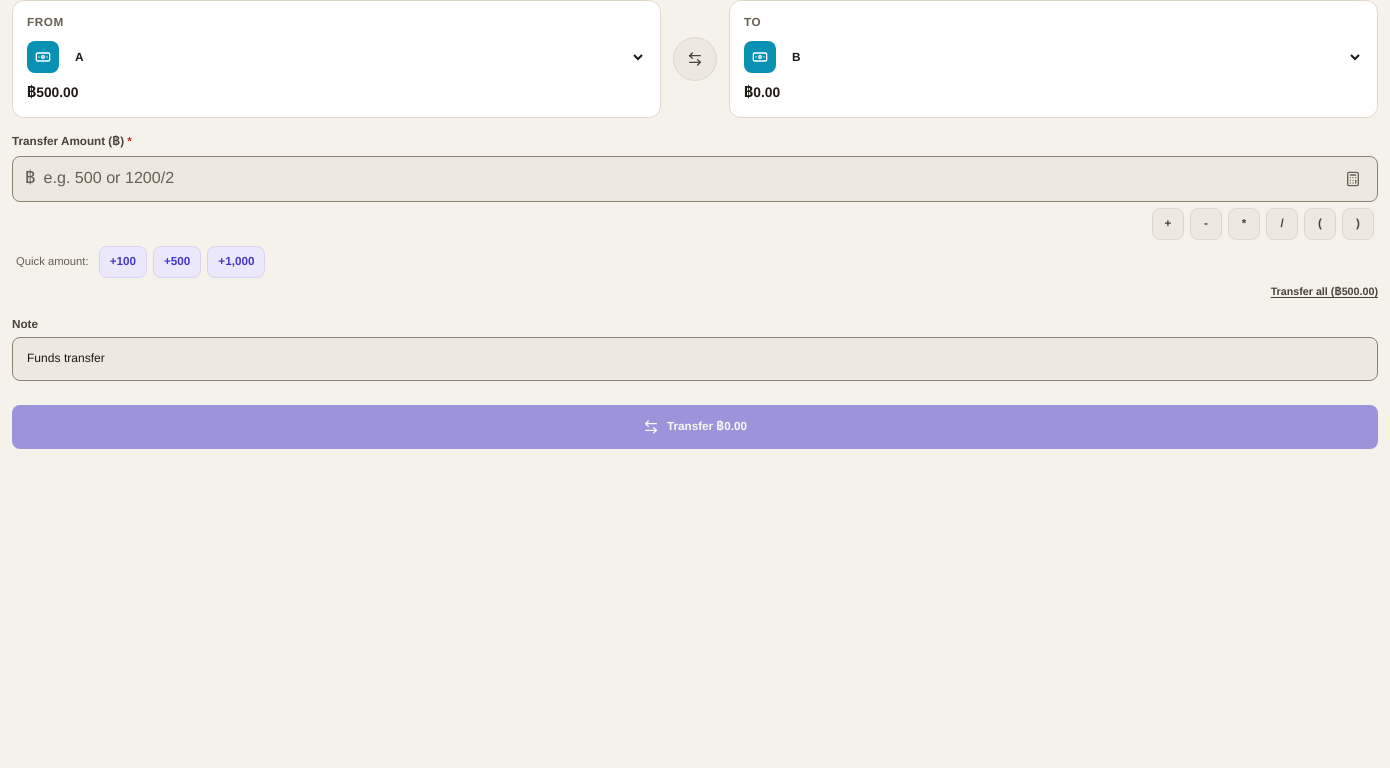
the transfer form › drops a refused transfer's message when the amount is edited
Type "100" into the field with id "xfer-amt" at (688, 179), box [44, 157, 1333, 201]
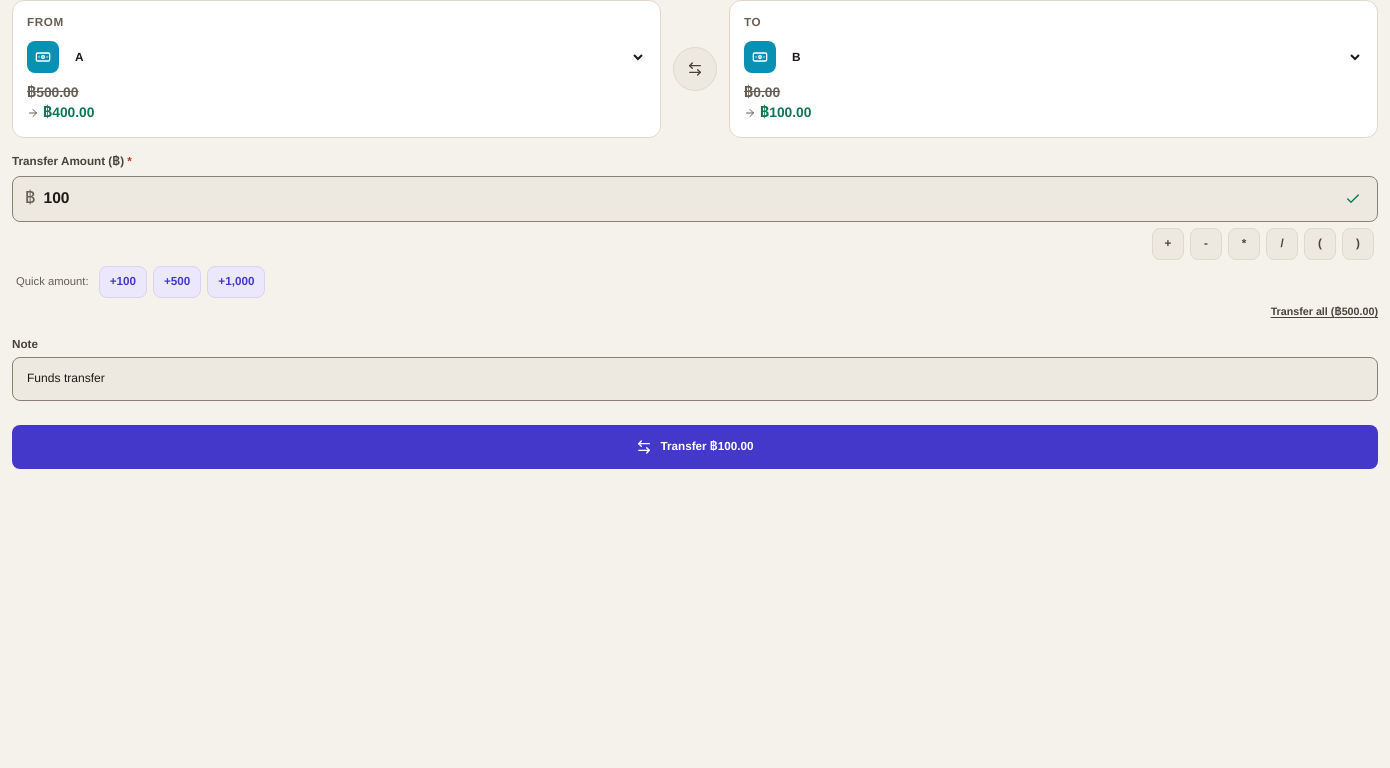
Click the button with id "xfer-submit" at (695, 446), box [12, 424, 1378, 468]
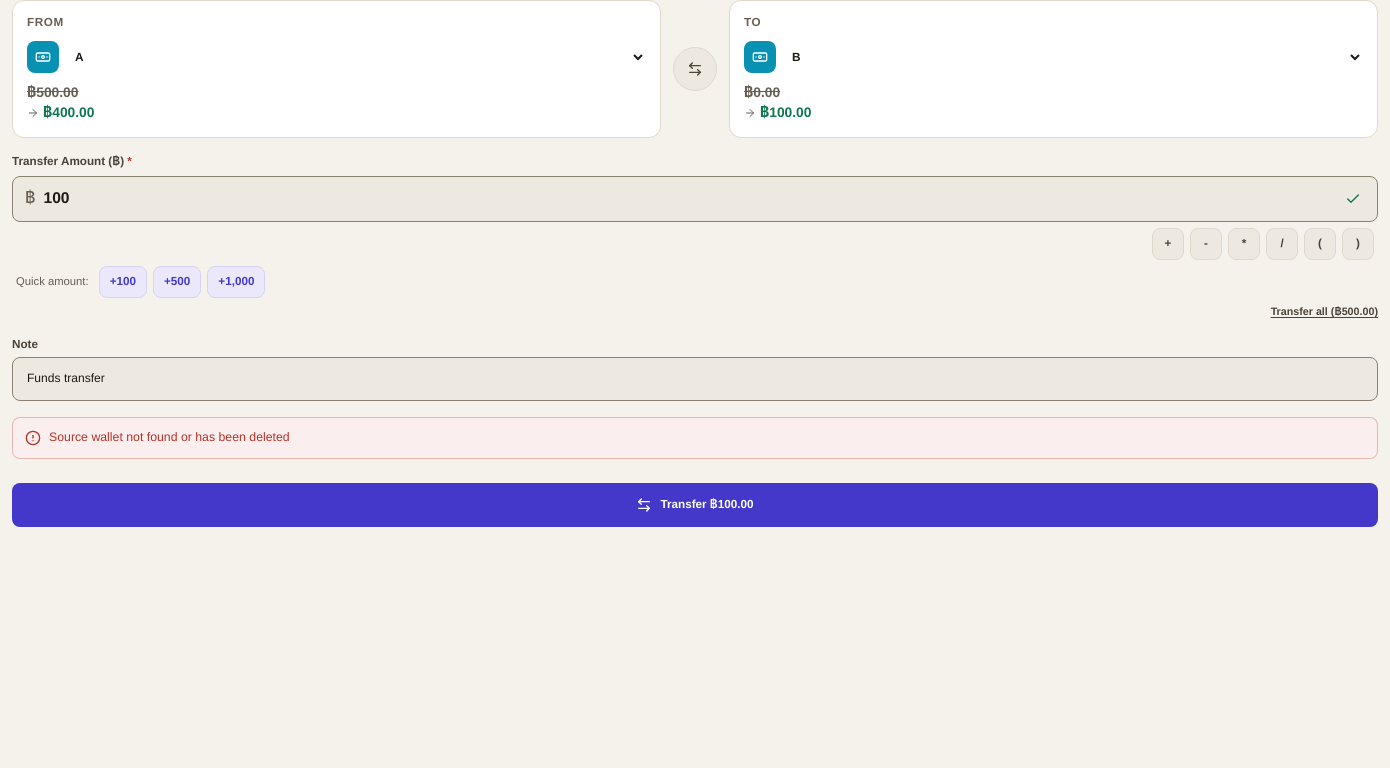
Expected: the text "Source wallet not found or has been deleted" is shown, [49, 430, 290, 446]
Replace the text in the field with id "xfer-amt" with "90" at (688, 199), box [44, 177, 1333, 221]
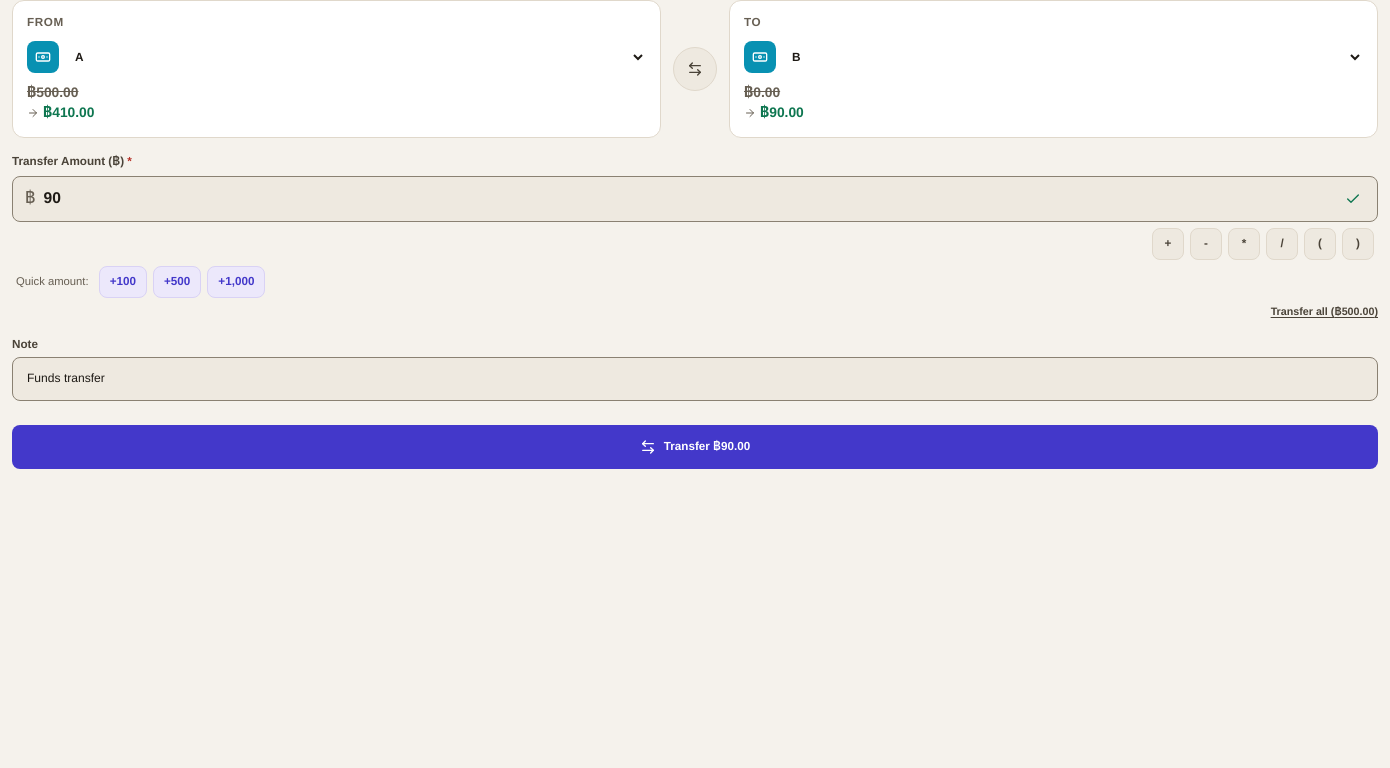
Expected: the text "Source wallet not found or has been deleted" is gone
